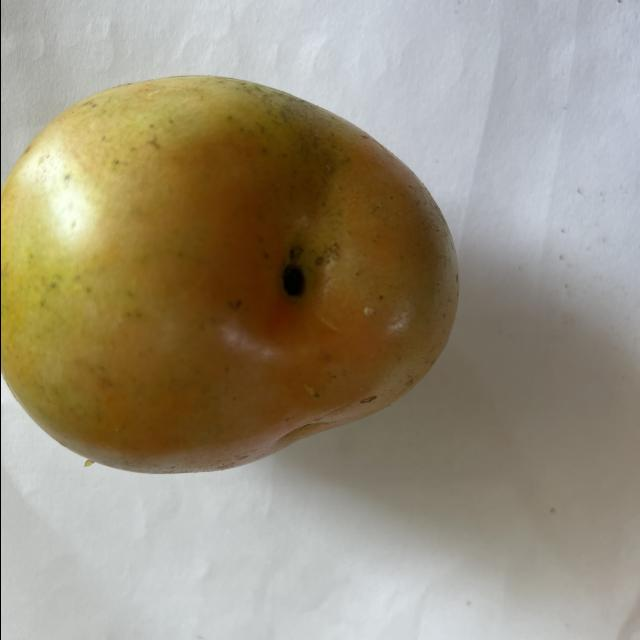fruitworm_bore: (268, 237, 326, 310)
